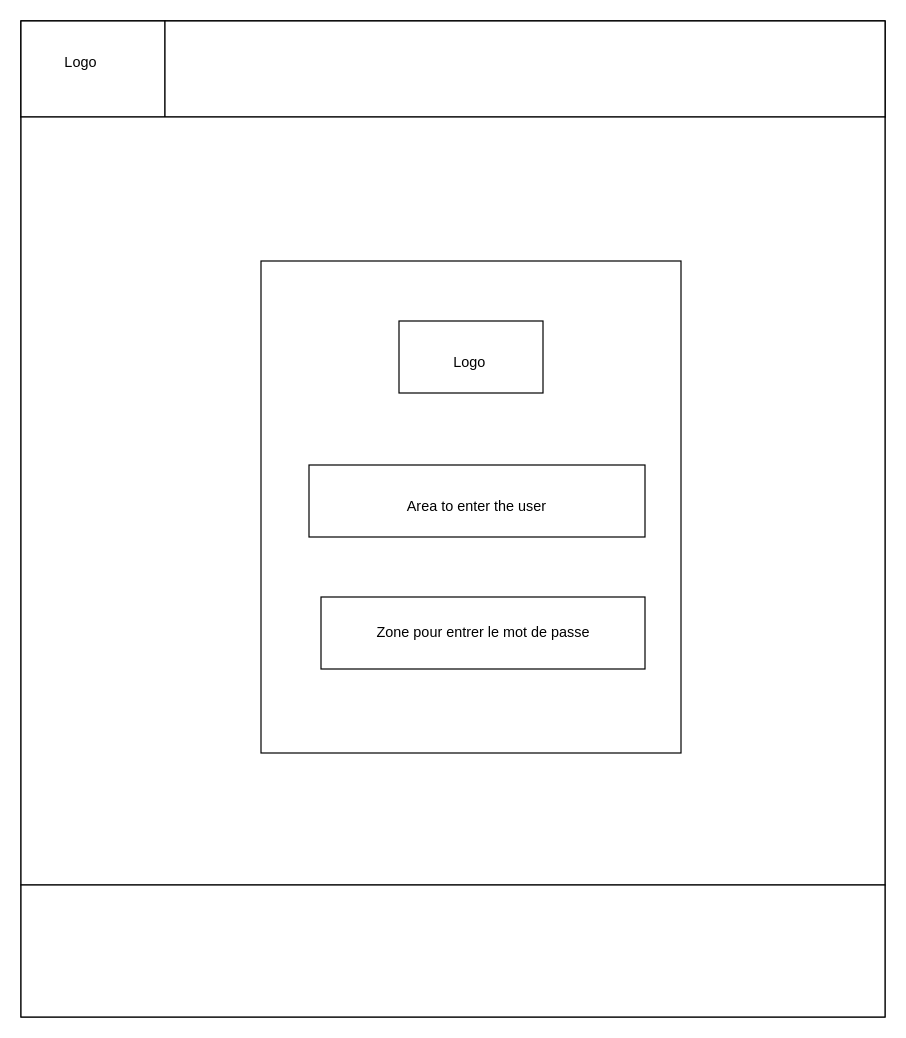
Image size: 906x1038. Some labels were removed from this diagram. The centre of each missing label's shape, as x and y in pixels:
footer: point 452,950
menu: point 524,68
